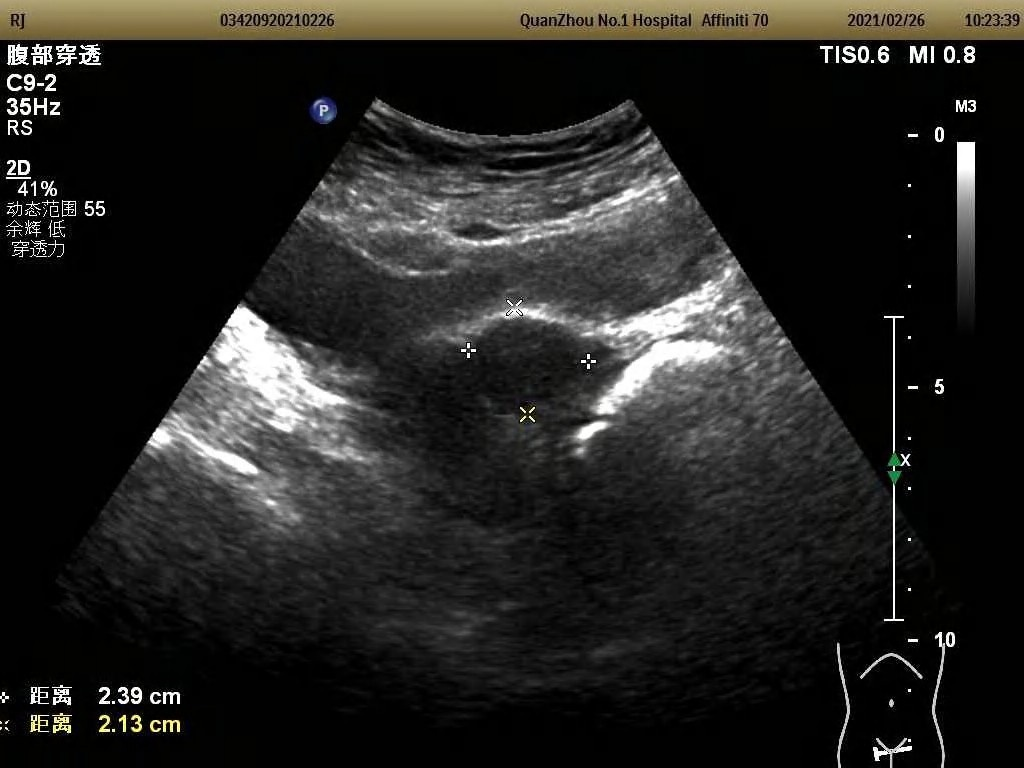肌瘤: (468, 307, 590, 416)
